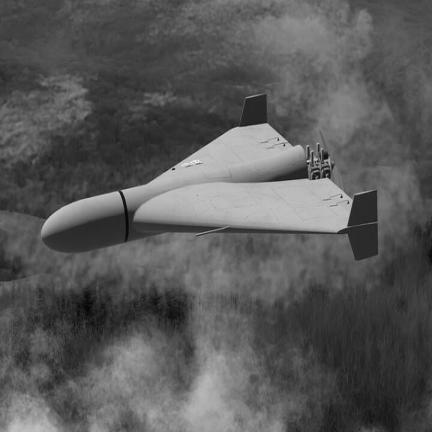Shahed: (42, 94, 377, 260)
